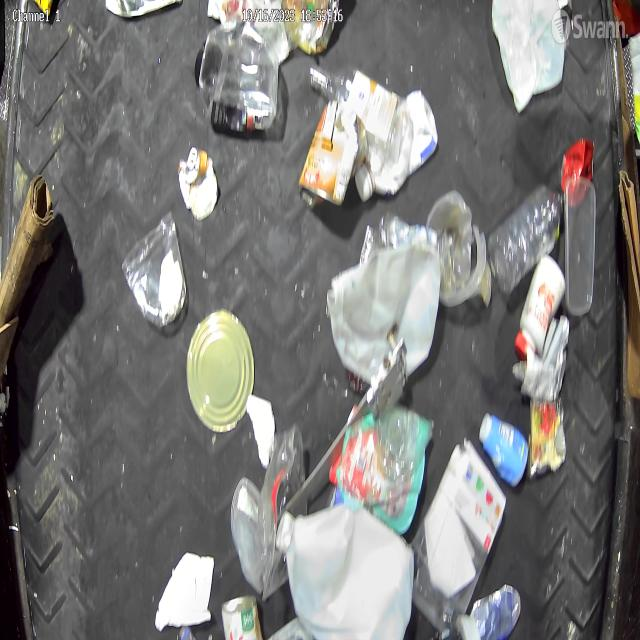can: (186, 310, 254, 433), (298, 114, 368, 210), (178, 147, 218, 219), (220, 595, 264, 640)
milk_jug: (276, 505, 415, 640), (327, 247, 442, 386), (492, 0, 564, 114)
plastic_bottle: (488, 186, 564, 296)
